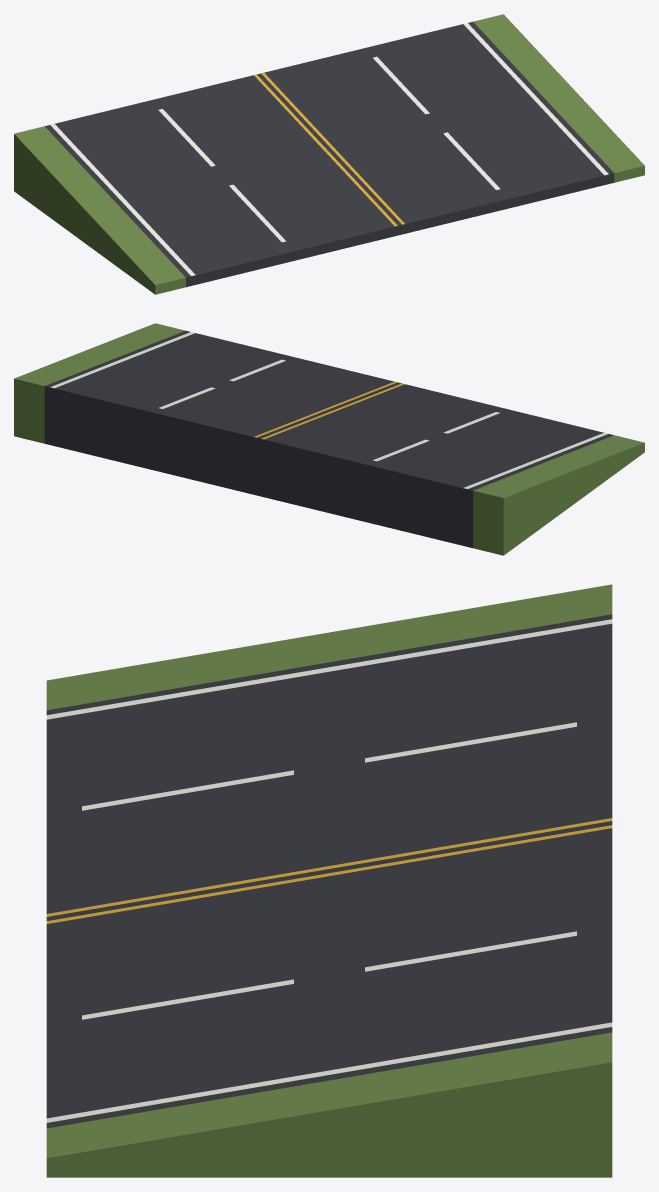
Rendered from Road_4Lane_NoSidewalk_Slope_Down_8m.glb.
The picture shows the model from 3 angles, top to bottom: view 1: azimuth 30°, elevation 25°; view 2: azimuth 150°, elevation 25°; view 3: azimuth 270°, elevation 25°; orthographic projection. The views are drawn at different scales.
Visible parts, largest first — view 1: Road_4Lane_NoSidewalk_Slope_Down_8m_Asphalt, Road_4Lane_NoSidewalk_Slope_Down_8m_Grass-edge, Road_4Lane_NoSidewalk_Slope_Down_8m_PaintWhite, Road_4Lane_NoSidewalk_Slope_Down_8m_PaintYellow; view 2: Road_4Lane_NoSidewalk_Slope_Down_8m_Asphalt, Road_4Lane_NoSidewalk_Slope_Down_8m_Grass-edge, Road_4Lane_NoSidewalk_Slope_Down_8m_PaintWhite, Road_4Lane_NoSidewalk_Slope_Down_8m_PaintYellow; view 3: Road_4Lane_NoSidewalk_Slope_Down_8m_Asphalt, Road_4Lane_NoSidewalk_Slope_Down_8m_Grass-edge, Road_4Lane_NoSidewalk_Slope_Down_8m_PaintWhite, Road_4Lane_NoSidewalk_Slope_Down_8m_PaintYellow.
Boxes of the visible parts, x1=… form: Road_4Lane_NoSidewalk_Slope_Down_8m_Asphalt: x1=45, y1=21, x2=614, y2=287; Road_4Lane_NoSidewalk_Slope_Down_8m_Grass-edge: x1=14, y1=14, x2=644, y2=294; Road_4Lane_NoSidewalk_Slope_Down_8m_PaintWhite: x1=50, y1=23, x2=608, y2=275; Road_4Lane_NoSidewalk_Slope_Down_8m_PaintYellow: x1=254, y1=72, x2=404, y2=226; Road_4Lane_NoSidewalk_Slope_Down_8m_Asphalt: x1=44, y1=330, x2=613, y2=548; Road_4Lane_NoSidewalk_Slope_Down_8m_Grass-edge: x1=14, y1=323, x2=644, y2=555; Road_4Lane_NoSidewalk_Slope_Down_8m_PaintWhite: x1=50, y1=332, x2=608, y2=488; Road_4Lane_NoSidewalk_Slope_Down_8m_PaintYellow: x1=254, y1=381, x2=404, y2=439; Road_4Lane_NoSidewalk_Slope_Down_8m_Asphalt: x1=46, y1=614, x2=612, y2=1128; Road_4Lane_NoSidewalk_Slope_Down_8m_Grass-edge: x1=46, y1=584, x2=612, y2=1177; Road_4Lane_NoSidewalk_Slope_Down_8m_PaintWhite: x1=46, y1=619, x2=612, y2=1122; Road_4Lane_NoSidewalk_Slope_Down_8m_PaintYellow: x1=46, y1=818, x2=612, y2=923.
Size of the model in its own units: 16 by 1.81 by 8.
